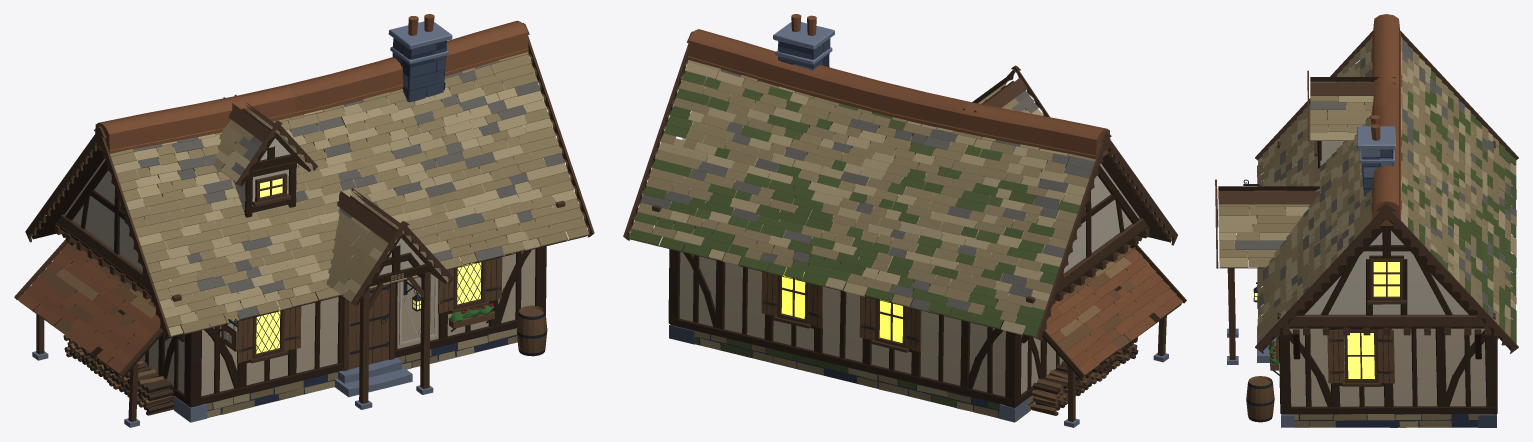
File: house_01_b.glb
The picture shows the model from 3 angles, left to right: view 1: azimuth 30°, elevation 25°; view 2: azimuth 150°, elevation 25°; view 3: azimuth 270°, elevation 25°; orthographic projection. The views are drawn at different scales.
Parts seen in each view (by area): view 1: isl_house_01_b; view 2: isl_house_01_b; view 3: isl_house_01_b.
Boxes of the visible parts, x1=… form: isl_house_01_b: x1=14, y1=14, x2=594, y2=427; isl_house_01_b: x1=623, y1=14, x2=1186, y2=427; isl_house_01_b: x1=1215, y1=14, x2=1518, y2=427.
Size of the model in its own units: 10.91 by 6.86 by 6.86.
